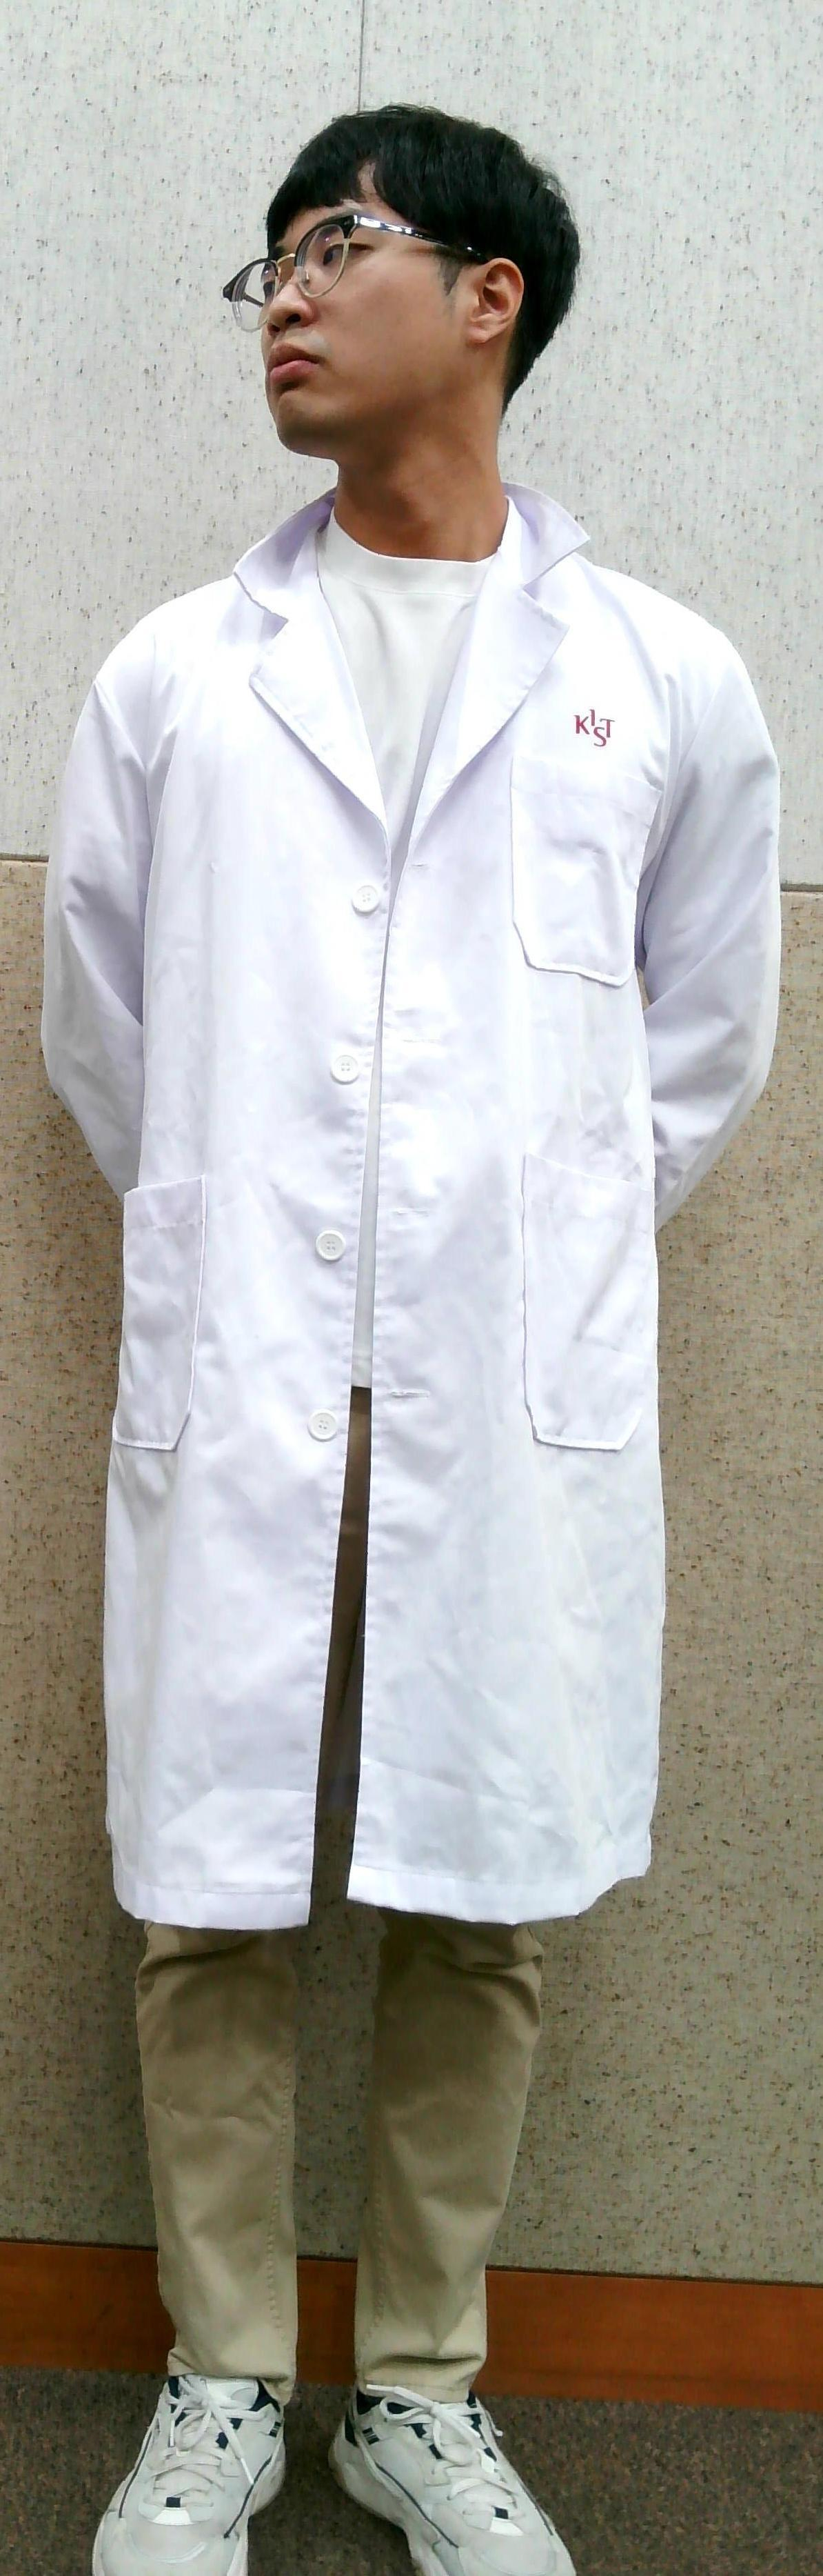lab_coat: (43, 554, 746, 1902)
